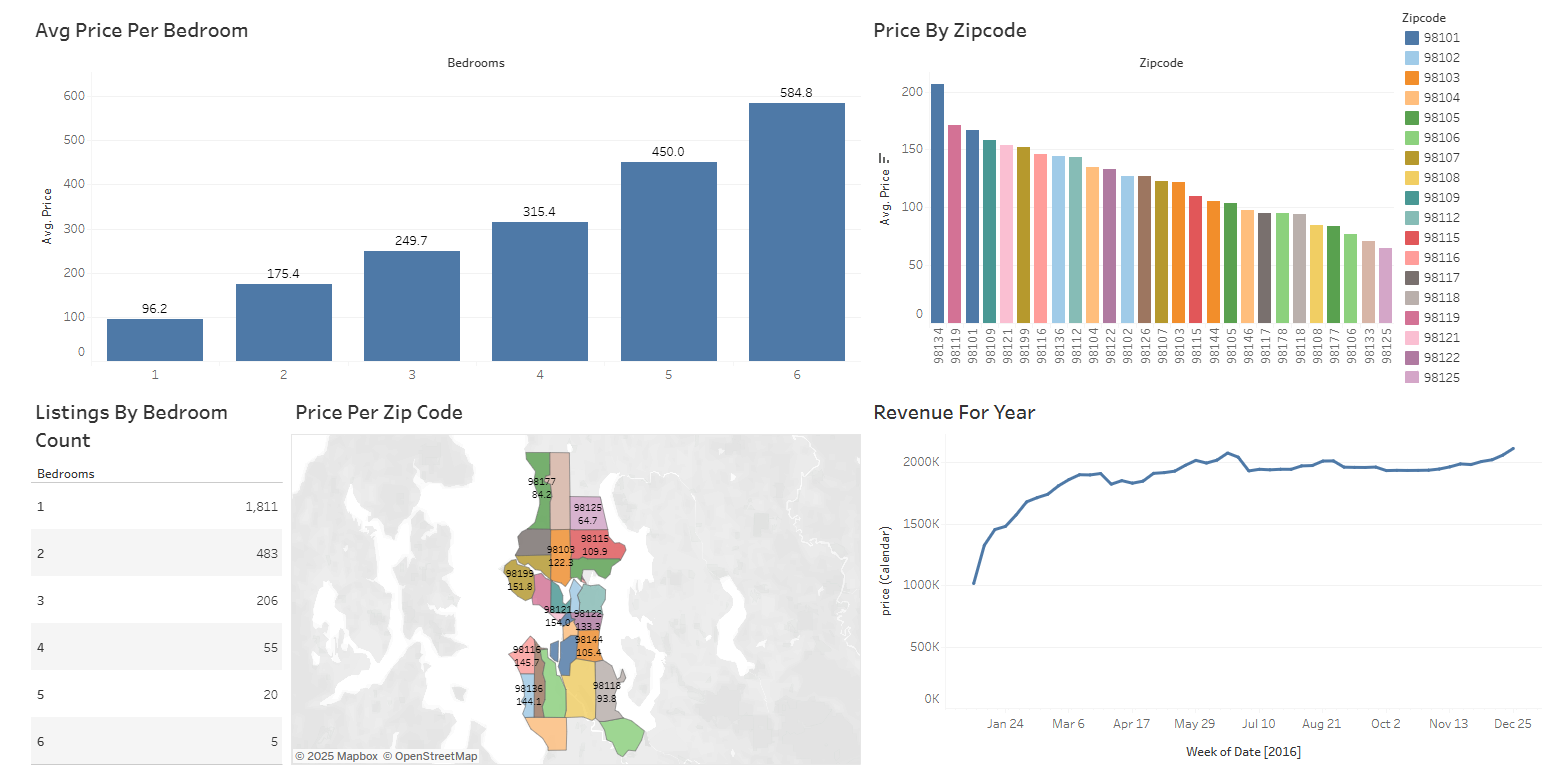

This screenshot's page, from the dashboard's own definition file:
{"tool":"tableau","page":{"name":"Dashboard 1","canvas":[1000,1000],"units":"permille","ordinal":0},"visuals":[{"type":"worksheet","title":"Sheet 4","mark":"Automatic","rows":["price"],"cols":["bedrooms"],"box":[4.7,9.3,546.5,490.7]},{"type":"worksheet","title":"Sheet 1","mark":"Automatic","rows":["price"],"cols":["zipcode"],"box":[551.2,9.3,347.3,490.7]},{"type":"legend","title":"Sheet 1","param":"[federated.1a6dmic0gc7qn71dli8lh02rhk6j].[none:zipcode:ok]","box":[898.5,9.3,96.8,490.7]},{"type":"worksheet","title":"Sheet 5","mark":"Automatic","rows":["bedrooms"],"box":[4.7,500,169.7,490.7]},{"type":"worksheet","title":"Sheet 2","mark":"Multipolygon","box":[174.4,500,376.8,490.7]},{"type":"worksheet","title":"Sheet 3","mark":"Automatic","rows":["price (Calendar)"],"cols":["date"],"box":[551.2,500,444.1,490.7]}]}

Visuals, with their boxes on the dashboard's canvas, which has no fixed pixel size, in thousandths of its width and height (x1, y1, x2, y2). These are canvas units, not pixel positions in the 1551x767 screenshot, which may show the page scaled, cropped or inside an application window:
"Sheet 4" worksheet: rect(5, 9, 551, 500)
"Sheet 1" worksheet: rect(551, 9, 898, 500)
"Sheet 1" legend: rect(898, 9, 995, 500)
"Sheet 5" worksheet: rect(5, 500, 174, 991)
"Sheet 2" worksheet (Multipolygon marks): rect(174, 500, 551, 991)
"Sheet 3" worksheet: rect(551, 500, 995, 991)
